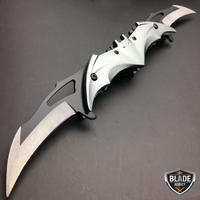knife: (5, 9, 174, 199)
